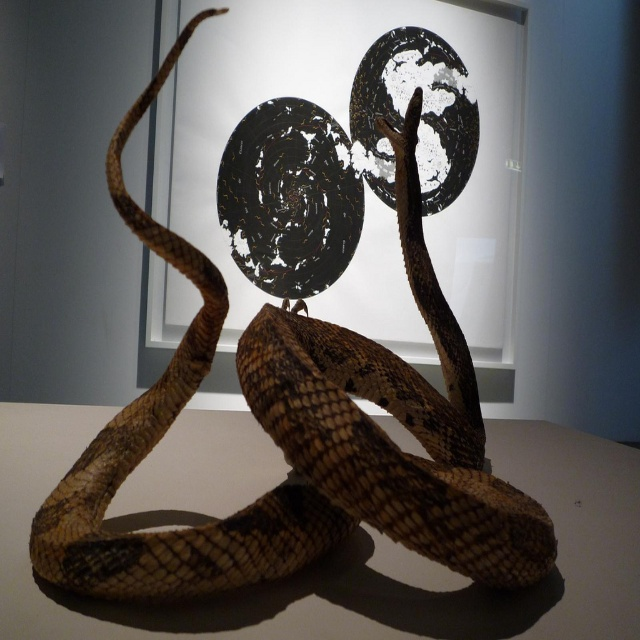Snake: (28, 2, 559, 607)
